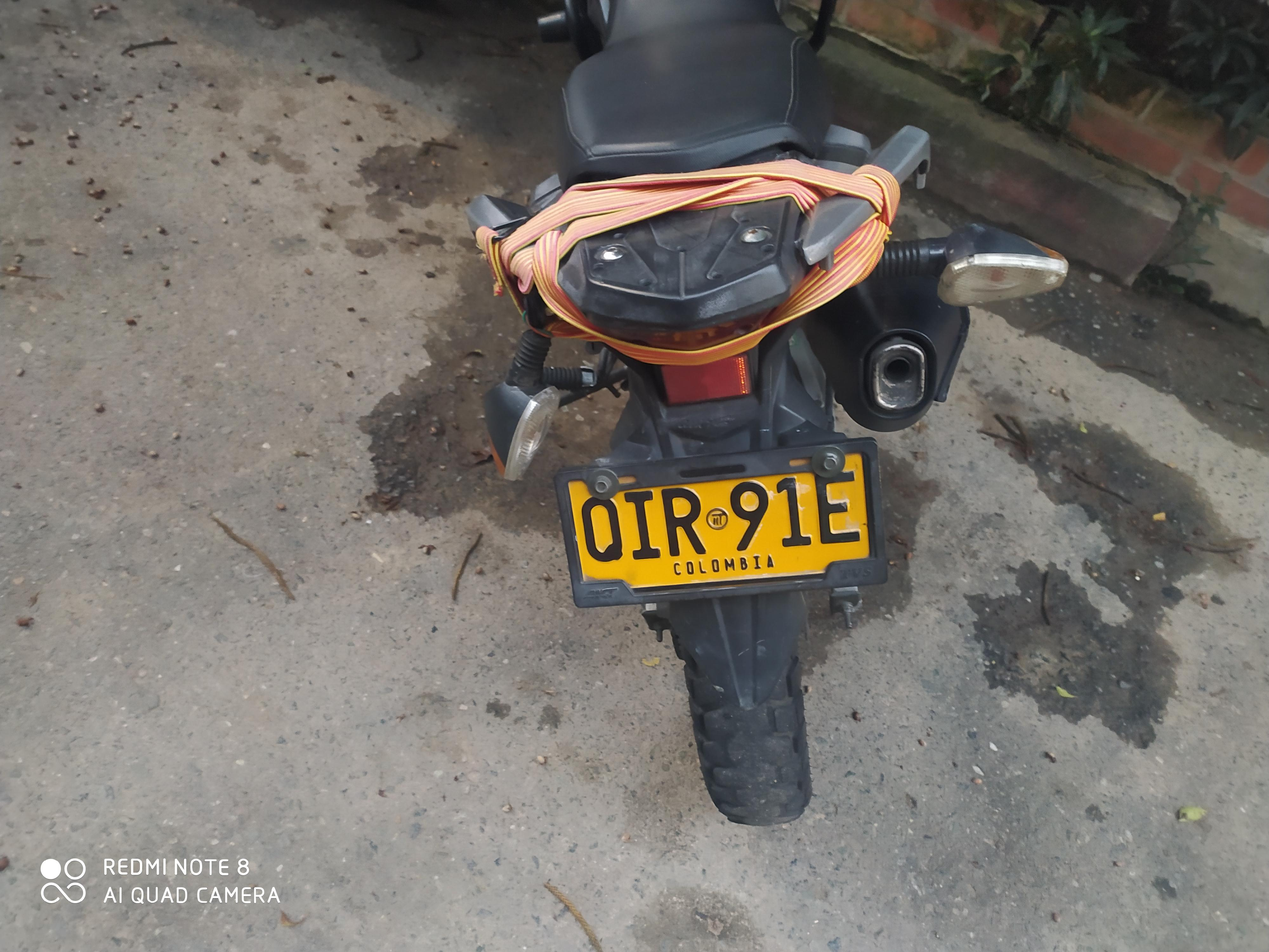placa: (537, 434, 889, 619)
